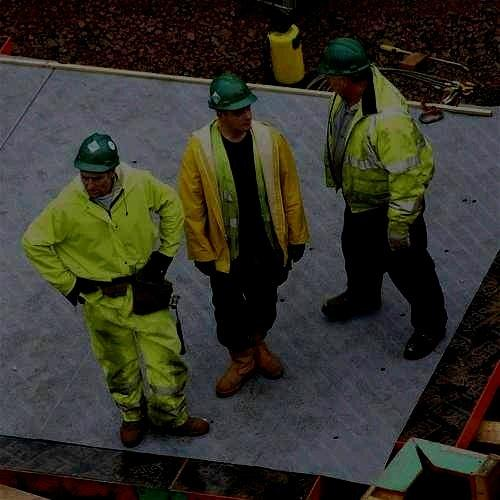helmet: (319, 37, 373, 100), (73, 131, 121, 198), (207, 70, 258, 132)
